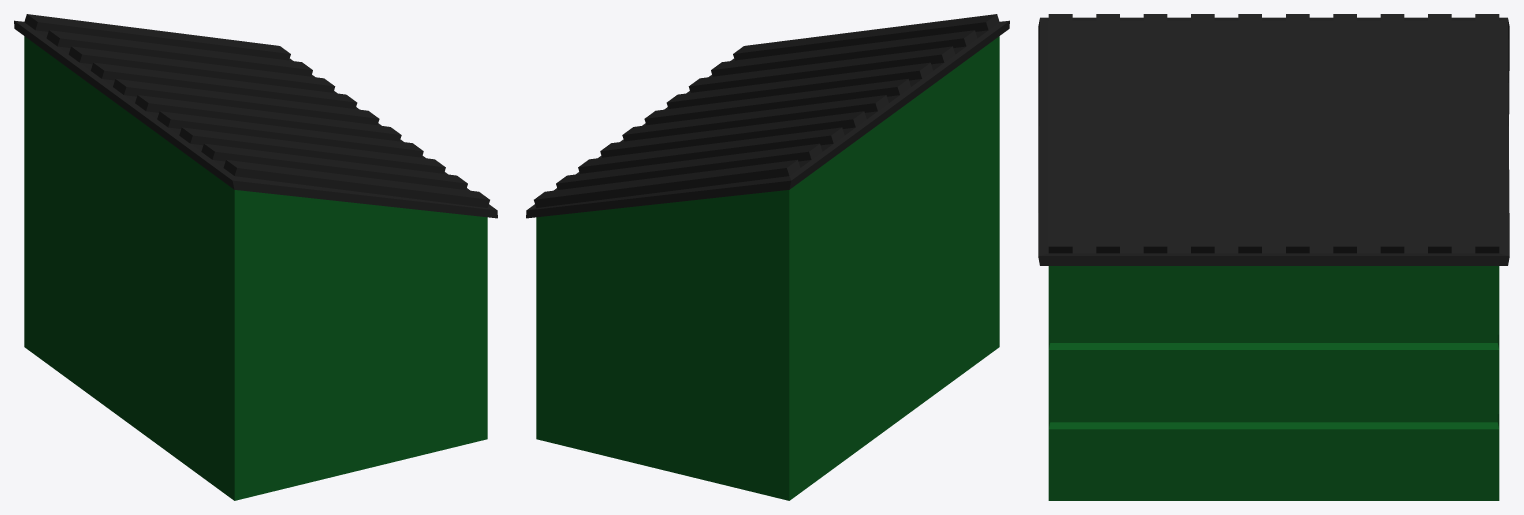
The model's file is dumpster.glb.
The picture shows the model from 3 angles, left to right: view 1: azimuth 30°, elevation 25°; view 2: azimuth 150°, elevation 25°; view 3: azimuth 270°, elevation 25°; orthographic projection. The views are drawn at different scales.
Visible parts, largest first — view 1: dumpster; view 2: dumpster; view 3: dumpster.
Boxes of the visible parts, x1=… form: dumpster: x1=14, y1=14, x2=497, y2=500; dumpster: x1=526, y1=14, x2=1009, y2=500; dumpster: x1=1038, y1=14, x2=1509, y2=500.
Size of the model in its own units: 1.52 by 1.82 by 2.18.
